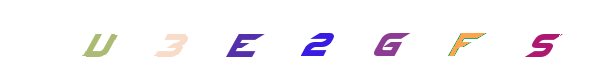2: (266, 0, 346, 80)
3: (176, 0, 256, 80)
E: (206, 0, 286, 80)
F: (422, 0, 502, 80)
G: (278, 0, 358, 80)
S: (424, 0, 504, 80)
V: (118, 0, 198, 80)
